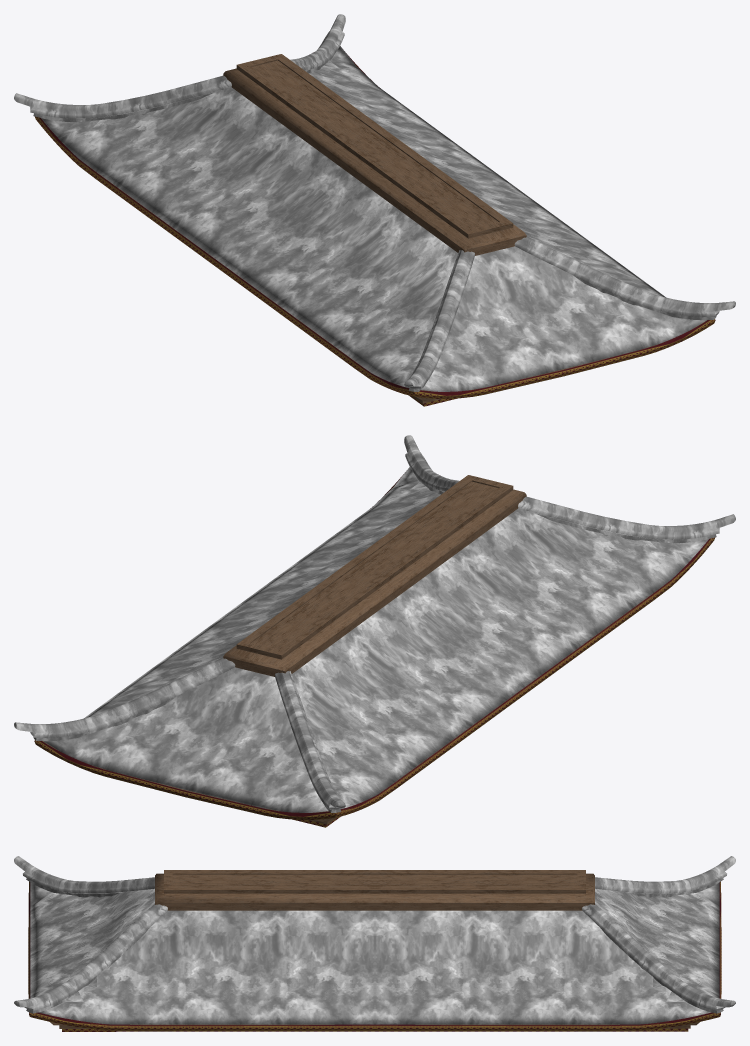
File: SM_roof_02.fbx
3 views of the same model, one above another, from view 1: azimuth 30°, elevation 25°; view 2: azimuth 150°, elevation 25°; view 3: azimuth 270°, elevation 25° (orthographic). The views are drawn at different scales.
Visible parts, largest first — view 1: SM_roof_02; view 2: SM_roof_02; view 3: SM_roof_02.
Part boxes in pixels (left/top/right/bottom): SM_roof_02: left=14, top=14, right=735, bottom=406; SM_roof_02: left=14, top=435, right=735, bottom=827; SM_roof_02: left=14, top=856, right=735, bottom=1031.
Size of the model in its own units: 1322 by 2737 by 408.
4 materials, 4 textured.
